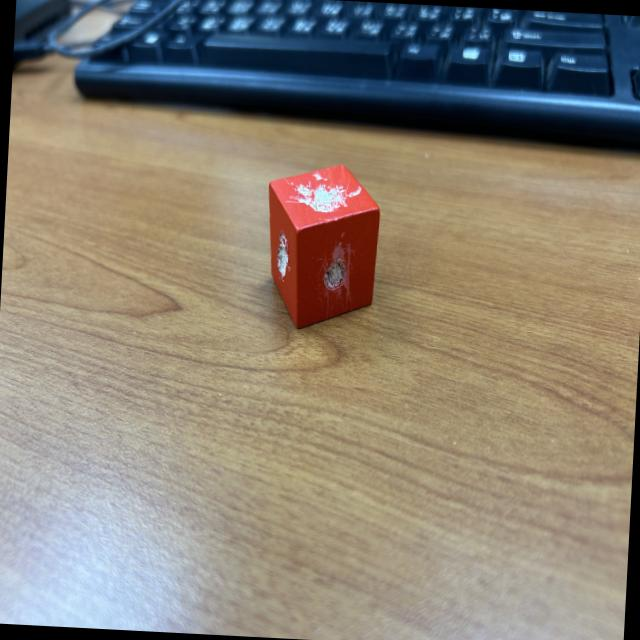broken: (261, 159, 384, 334)
